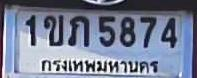1: (25, 14, 35, 45)
4: (160, 16, 176, 46)
5: (98, 15, 114, 46)
7: (139, 16, 156, 47)
8: (119, 16, 134, 46)
A02: (43, 14, 63, 45)
A32: (67, 15, 89, 46)
BKK: (36, 57, 164, 77)
